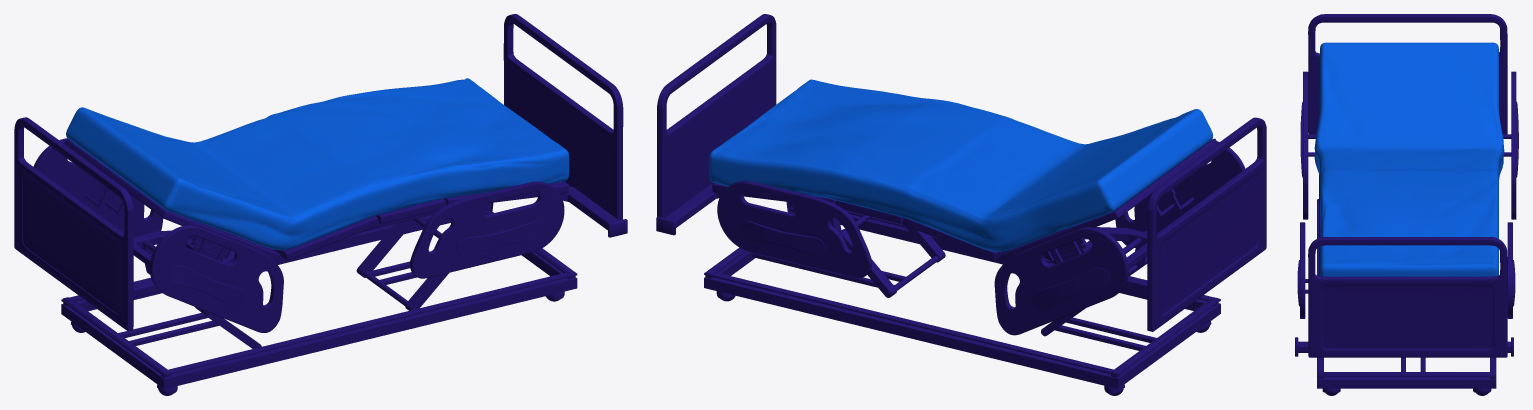
File: Hospital Bed.fbx
3 views of the same model, side by side, from view 1: azimuth 30°, elevation 25°; view 2: azimuth 150°, elevation 25°; view 3: azimuth 270°, elevation 25° (orthographic). The views are drawn at different scales.
Parts seen in each view (by area): view 1: Tube001, ChamferBox001; view 2: Tube001, ChamferBox001; view 3: ChamferBox001, Tube001.
Part boxes in pixels (x1,y1,x2,y2): Tube001: [14, 14, 627, 395]; ChamferBox001: [66, 78, 569, 250]; Tube001: [656, 14, 1266, 395]; ChamferBox001: [709, 79, 1212, 251]; ChamferBox001: [1314, 42, 1504, 276]; Tube001: [1295, 14, 1518, 395].
Size of the model in its own units: 176 by 75.11 by 78.55.
